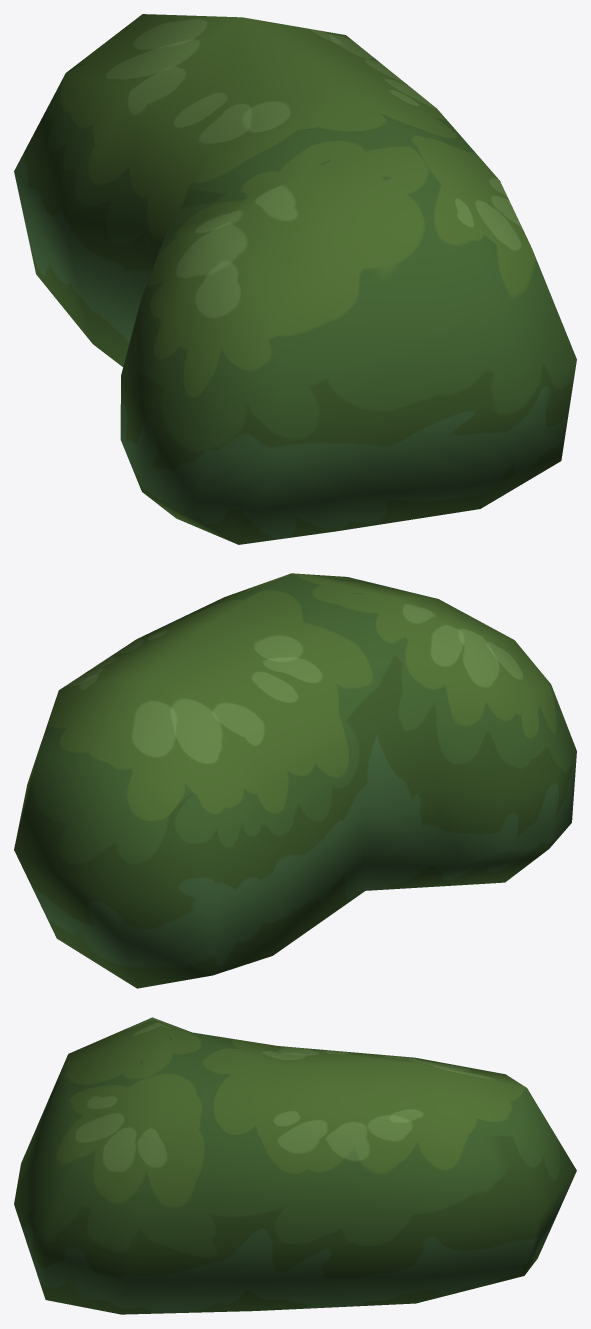
Rendered from BushLShape.fbx.
3 views of the same model, one above another, from view 1: azimuth 30°, elevation 25°; view 2: azimuth 150°, elevation 25°; view 3: azimuth 270°, elevation 25° (orthographic). The views are drawn at different scales.
Parts seen in each view (by area): view 1: Cube.002; view 2: Cube.002; view 3: Cube.002.
Part boxes in pixels (<box>): Cube.002: <box>14,14,576,544</box>; Cube.002: <box>14,573,576,988</box>; Cube.002: <box>14,1017,576,1314</box>.
Bounding box in the file's own units: 181 × 136 × 276.
Materials: 1 (1 with a texture image).
